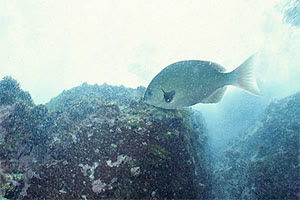gure: (139, 51, 267, 123)
